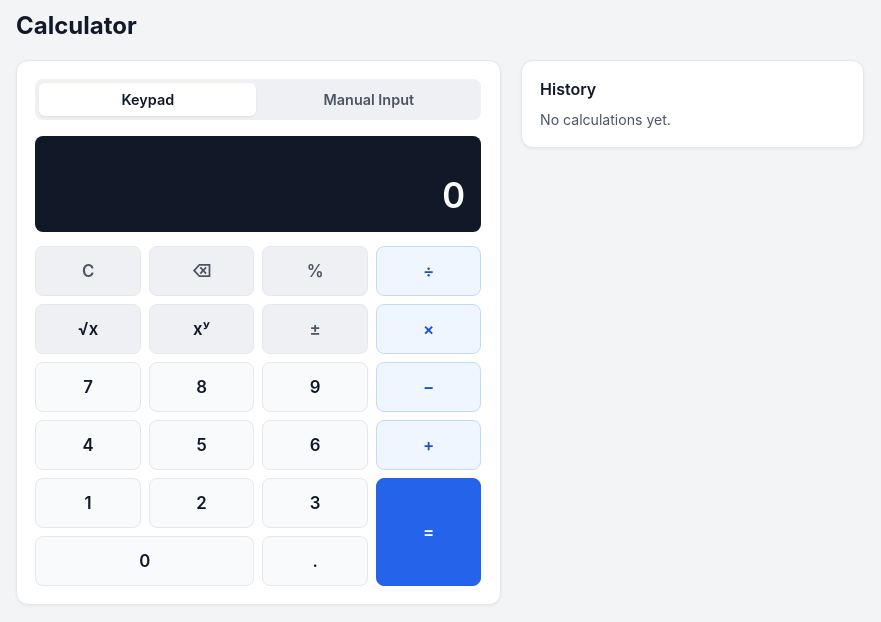
App › performs addition via the keypad and records history
The width and height of the screenshot is (881, 622).
Click the button "1".
click(88, 503)  # box [35,478,141,528]
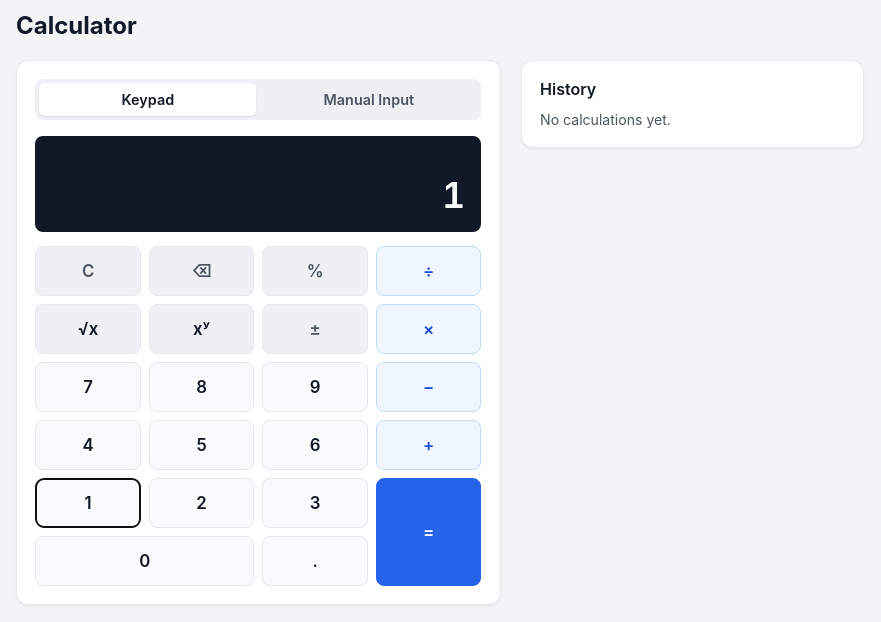
Click the button "2".
click(202, 503)  # box [149,478,254,528]
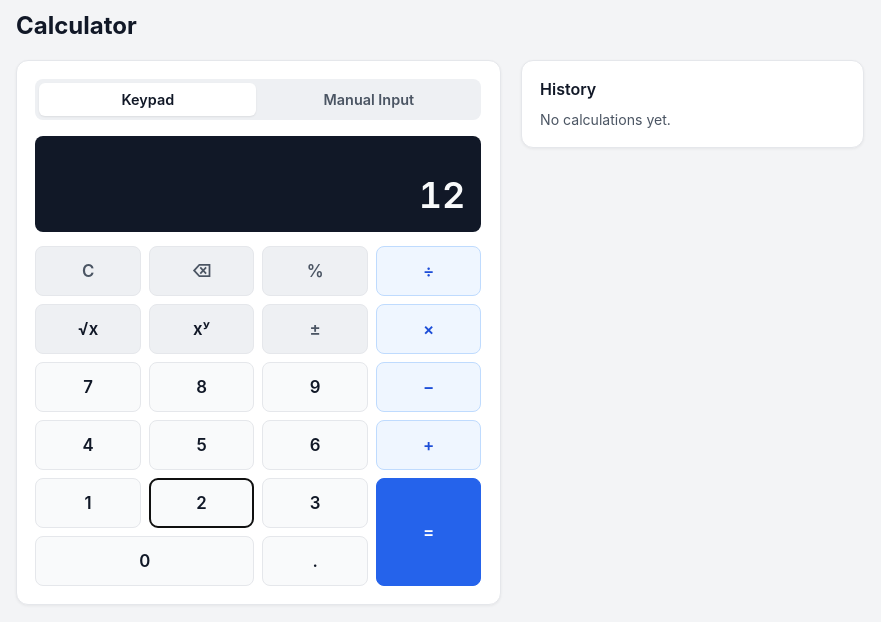
Click the button named "Add".
click(429, 445)  # box [376,420,481,470]
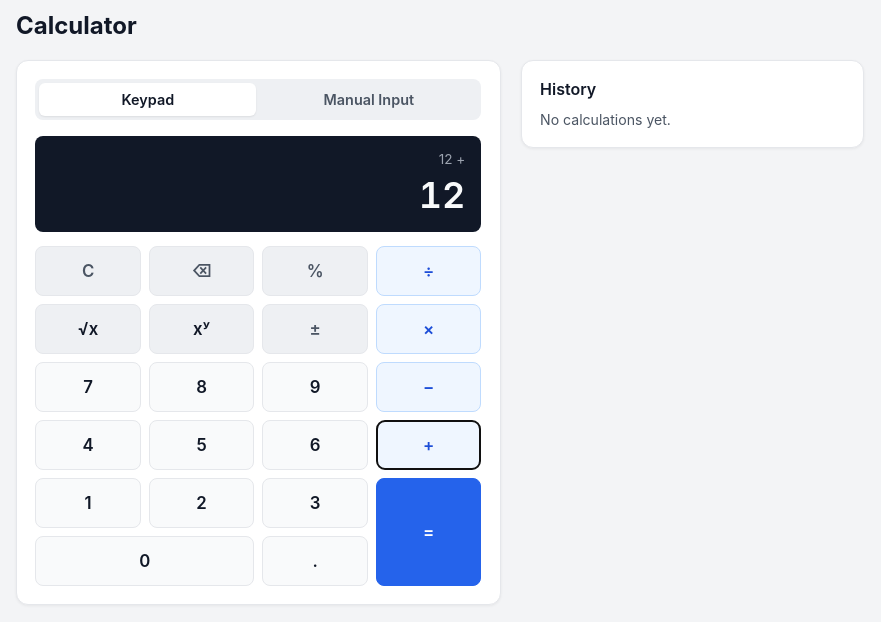
Click the button "8".
click(202, 387)  # box [149,362,254,412]
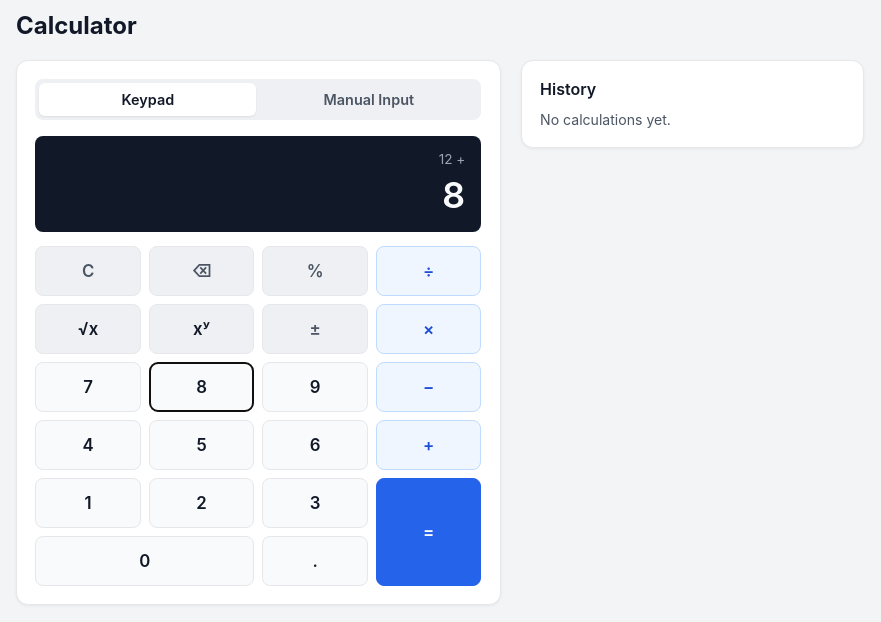
Click the button named "Equals".
click(429, 532)  # box [376,478,481,586]
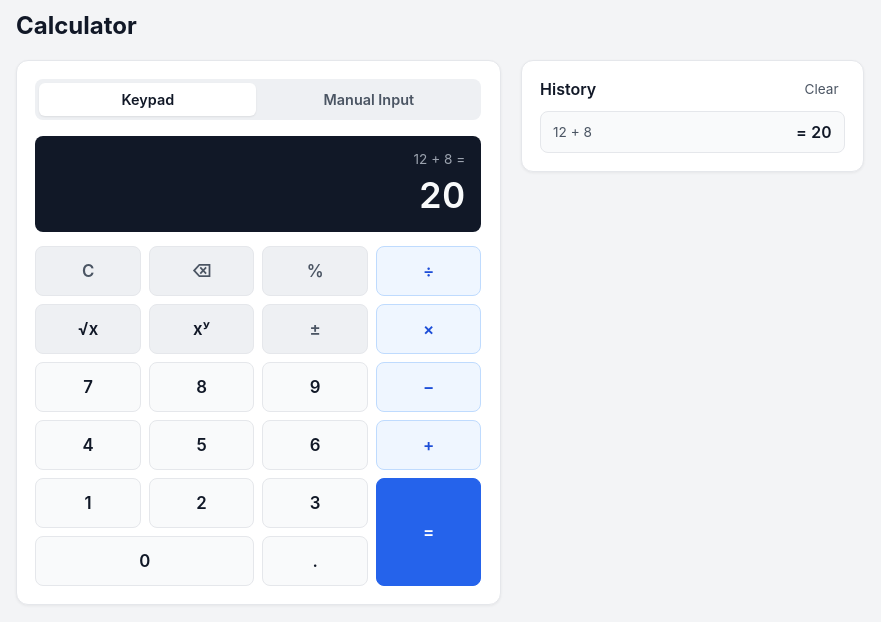
Expected: the text with test id "calculator-display" reads "20", [419,173,465,217]
Expected: the text "12 + 8" is shown, [553,124,592,140]
